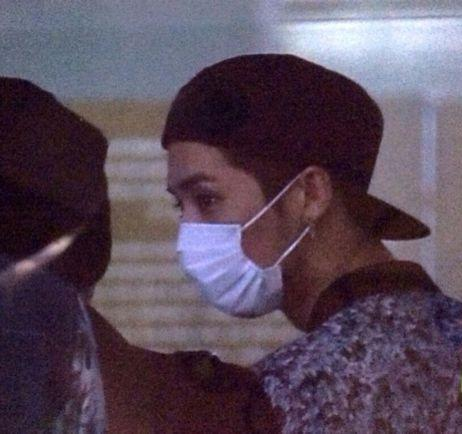OK: (174, 158, 333, 317)
